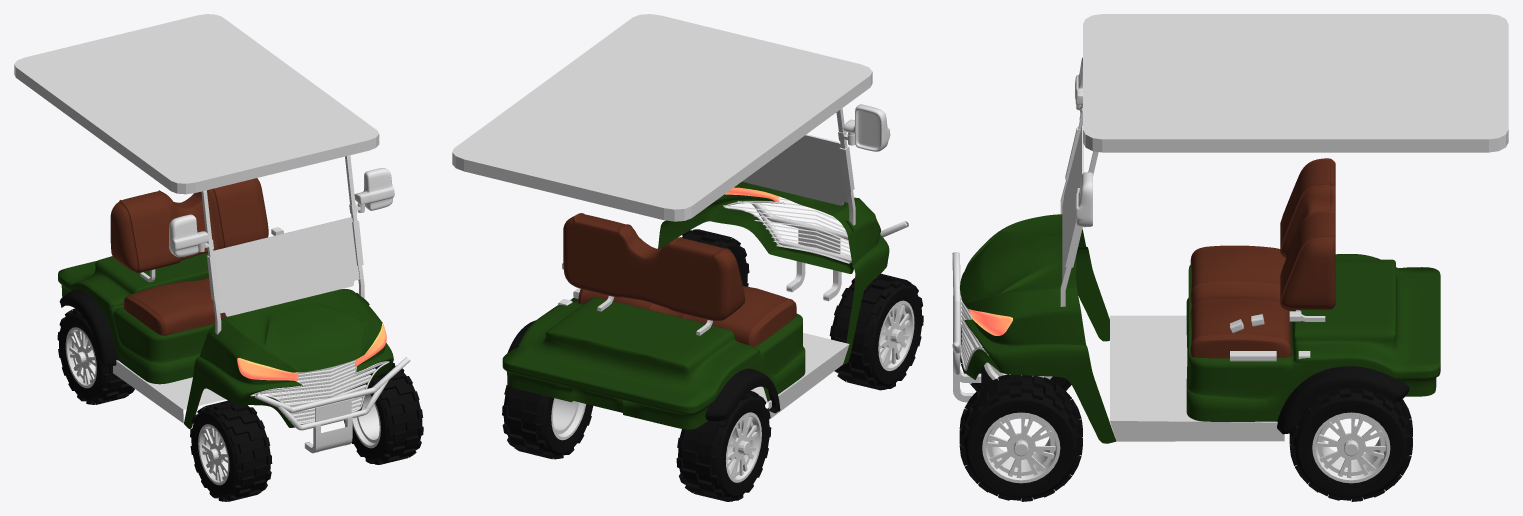
File: golf.glb
3 views of the same model, side by side, from view 1: azimuth 30°, elevation 25°; view 2: azimuth 150°, elevation 25°; view 3: azimuth 270°, elevation 25° (orthographic). The views are drawn at different scales.
Parts seen in each view (by area): view 1: Cube, Cube.001, Plane.001, Cylinder, Cube.009, Cube.018, Cube.017, Cylinder.007, Cube.008, Cube.016, Plane.003, Cube.010 (+11 smaller); view 2: Cube, Cube.009, Cube.018, Cylinder.007, Cube.001, Cylinder, Plane.001, Cube.017, Plane.003, Cylinder.009, Plane.002, Cube.016 (+8 smaller); view 3: Cube, Cube.009, Cube.001, Plane.003, Cube.017, Cylinder, Cube.018, Cylinder.007, Plane.002, Cylinder.008, Cylinder.009, Circle (+7 smaller).
Part boxes in pixels (x1,y1,x2,y2): Cube: (14, 14, 379, 194); Cube.001: (184, 289, 393, 428); Plane.001: (213, 217, 359, 316); Cylinder: (190, 363, 423, 501); Cube.009: (58, 253, 215, 384); Cube.018: (110, 178, 268, 273); Cube.017: (123, 277, 227, 335); Cylinder.007: (57, 308, 134, 404); Cube.008: (169, 168, 394, 257); Cube.016: (255, 362, 385, 422); Plane.003: (113, 360, 307, 423); Cube.010: (201, 155, 364, 334); Cube: (452, 14, 872, 221); Cube.009: (502, 297, 805, 429); Cube.018: (563, 213, 745, 321); Cylinder.007: (502, 384, 771, 501); Cube.001: (658, 181, 889, 364); Cylinder: (682, 229, 923, 390); Plane.001: (742, 134, 847, 205); Cube.017: (578, 286, 796, 346); Plane.003: (751, 332, 849, 419); Cylinder.009: (551, 398, 761, 482); Plane.002: (507, 320, 780, 421); Cube.016: (723, 201, 851, 263); Cube: (1083, 14, 1508, 152); Cube.009: (1186, 254, 1440, 421); Cube.001: (960, 214, 1116, 443); Plane.003: (1110, 315, 1284, 441); Cube.017: (1190, 245, 1291, 358); Cylinder: (959, 325, 1082, 501); Cube.018: (1280, 158, 1335, 310); Cylinder.007: (1289, 388, 1412, 501); Plane.002: (1277, 366, 1409, 434); Cylinder.008: (982, 362, 1060, 483); Cylinder.009: (1312, 412, 1390, 483); Circle: (986, 415, 1055, 478).
Bounding box in the file's own units: 0.5362 × 0.6931 × 0.9428.
